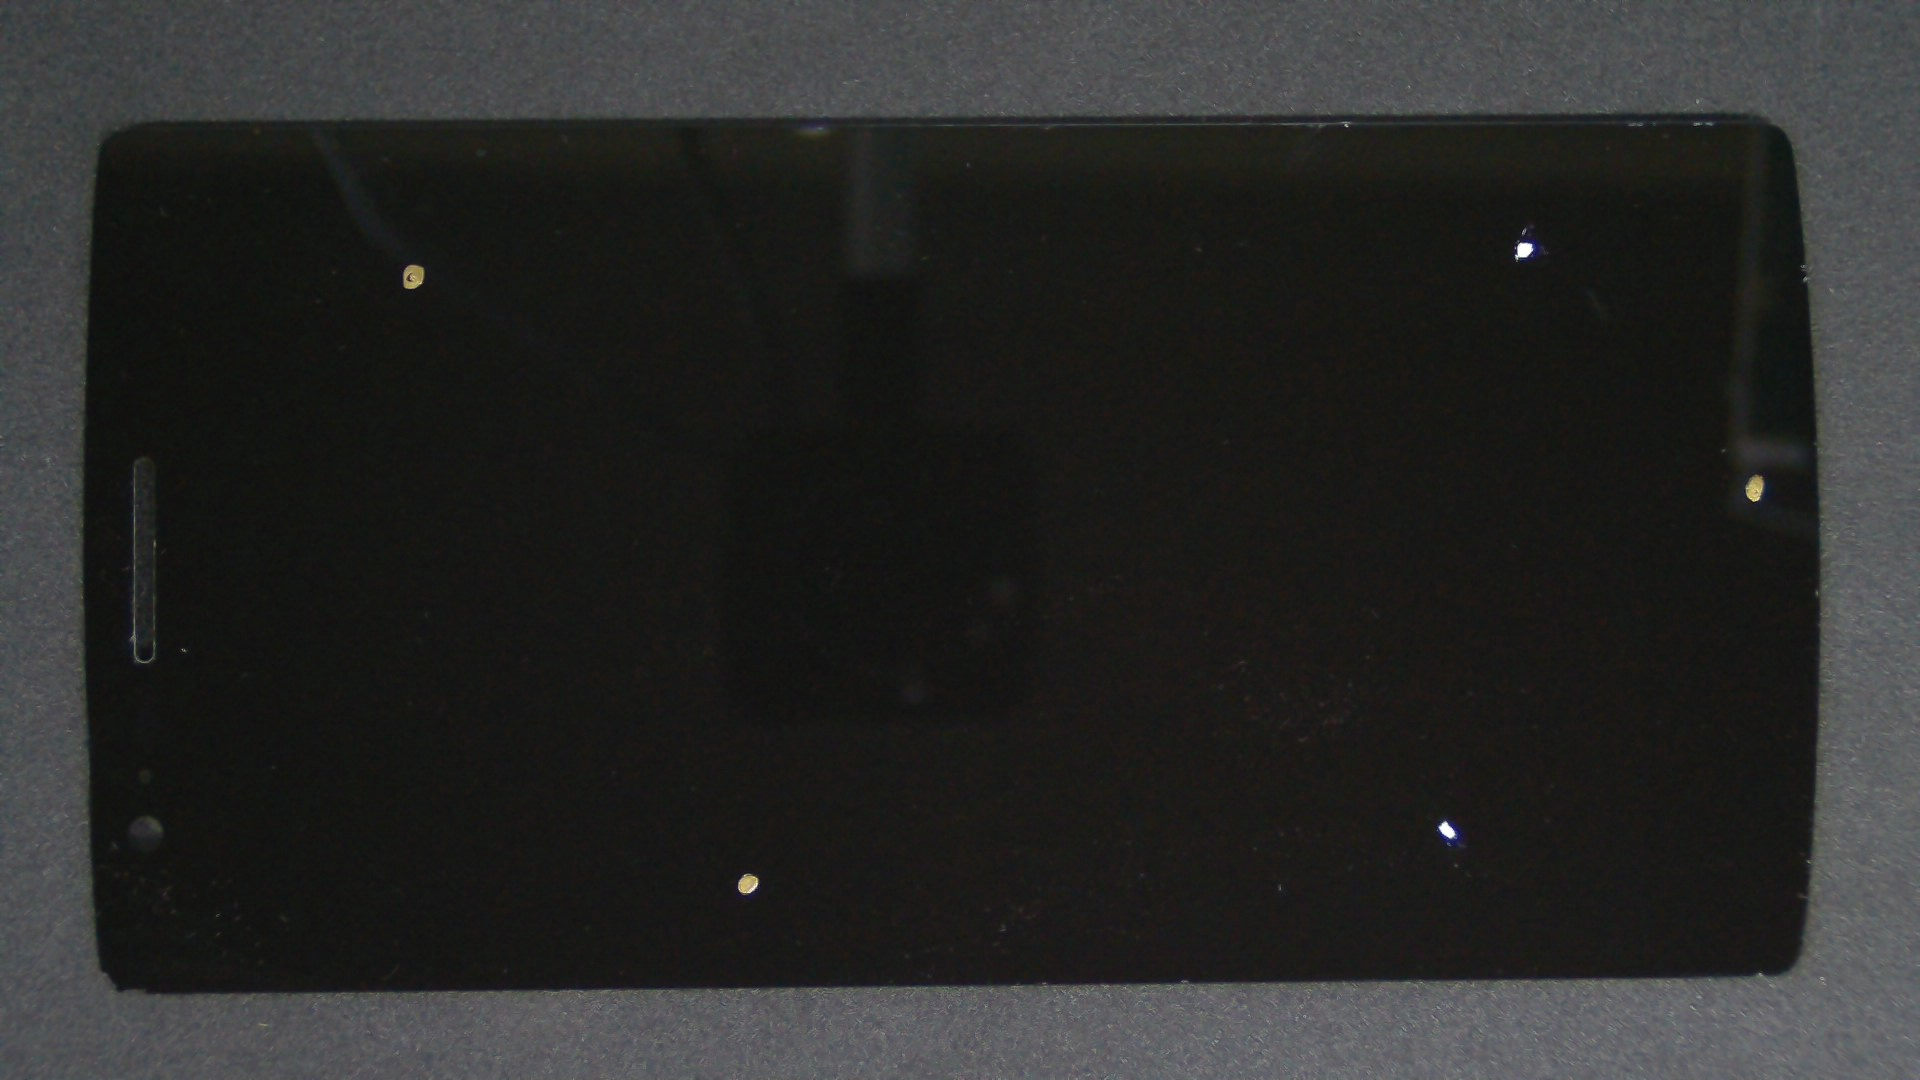oil: (723, 410, 1920, 1080), (878, 236, 1920, 709), (373, 435, 1117, 1080), (760, 119, 1920, 360), (764, 112, 1920, 340), (207, 131, 617, 396)
